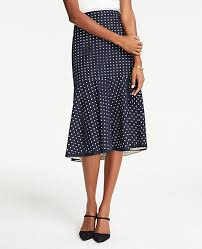C_skirt: (51, 7, 161, 162)
